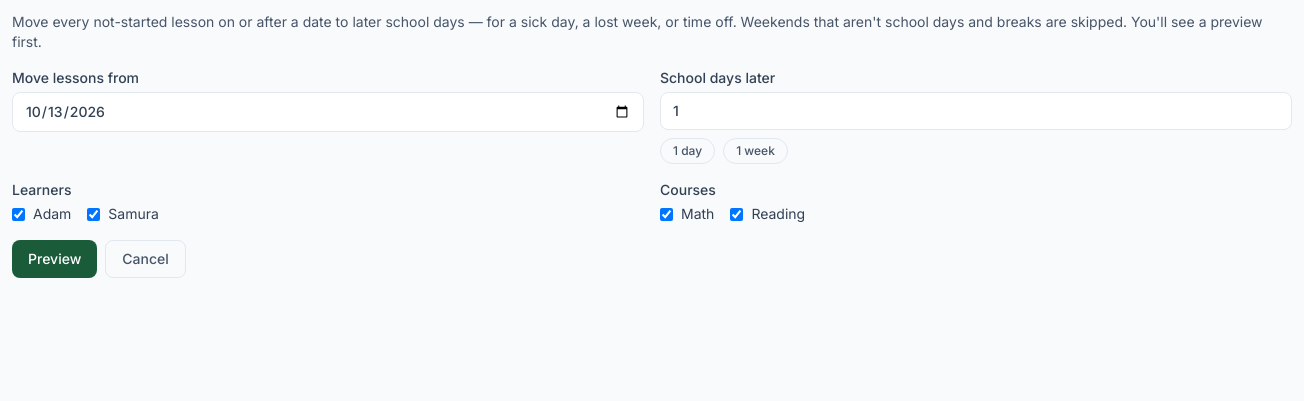
Test: ShiftLessonsPanel — preview › shows an empty message and disables Confirm when nothing matches
Click the button "Preview" at [55, 259], box left=12, top=240, right=97, bottom=278
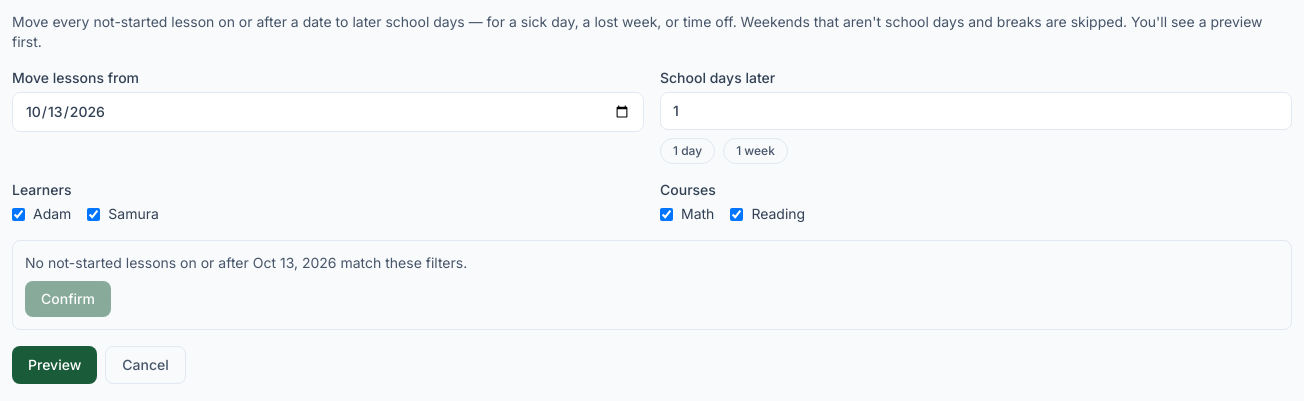
Expected: the text "No not-started lessons on or after Oct 13, 2026 match" is shown, left=25, top=254, right=467, bottom=271
Expected: the button "Confirm" is disabled, left=25, top=281, right=111, bottom=317
